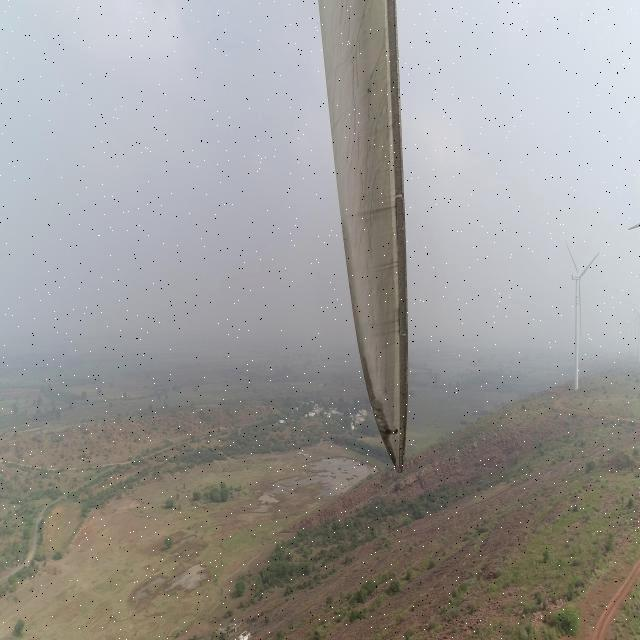Dirt: (319, 0, 410, 473)
Pin Hole: (373, 424, 404, 438), (362, 84, 376, 96)
